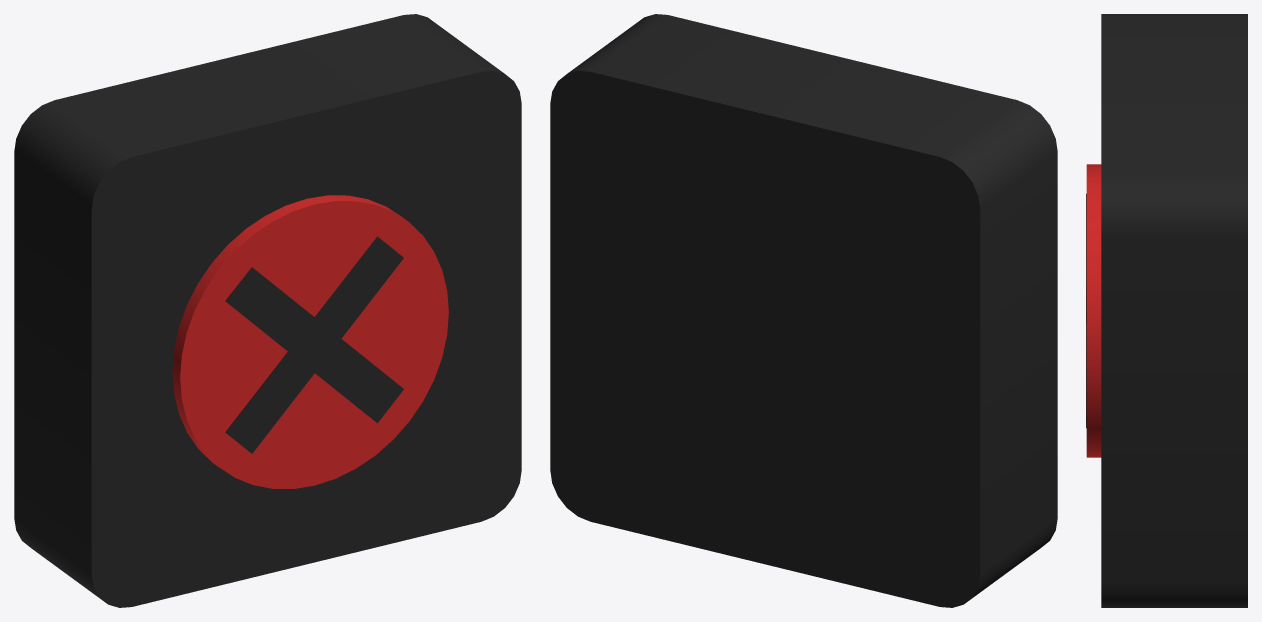
3 views of the same model, side by side, from view 1: azimuth 30°, elevation 25°; view 2: azimuth 150°, elevation 25°; view 3: azimuth 270°, elevation 25° (orthographic). The views are drawn at different scales.
Visible parts, largest first — view 1: R21a_r00, R21a_d250, R21a_s275; view 2: R21a_r00; view 3: R21a_r00, R21a_d250.
Part boxes in pixels (x1,y1,x2,y2): R21a_r00: (14,14,521,607); R21a_d250: (172,195,448,488); R21a_s275: (225,236,403,453); R21a_r00: (550,14,1057,607); R21a_r00: (1101,14,1247,607); R21a_d250: (1086,164,1101,457).
Bounding box in the file's own units: 0.32 × 0.32 × 0.1104.
